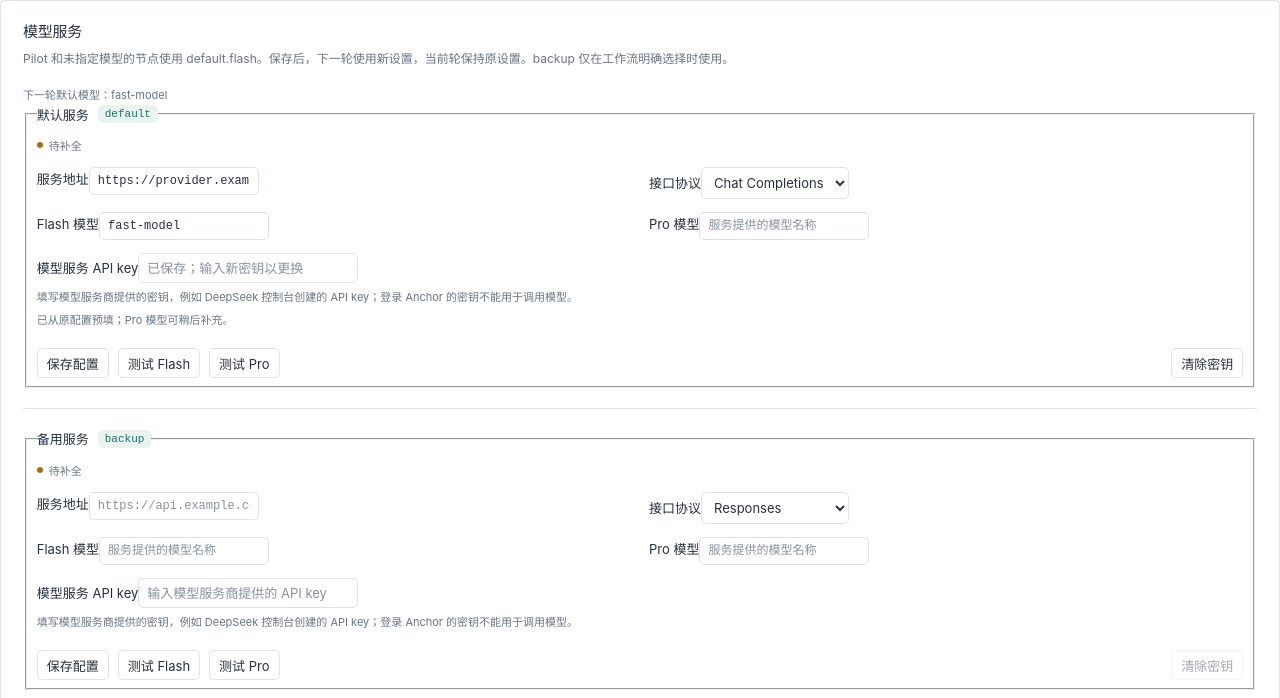
Test: Model provider settings › explains the known probe failure the selected provider has no API key configured without exposing raw errors
Click the button "测试 Flash" below "已从原配置预填；Pro 模型可稍后补充。".
click(159, 363)  # box [118,348,200,378]
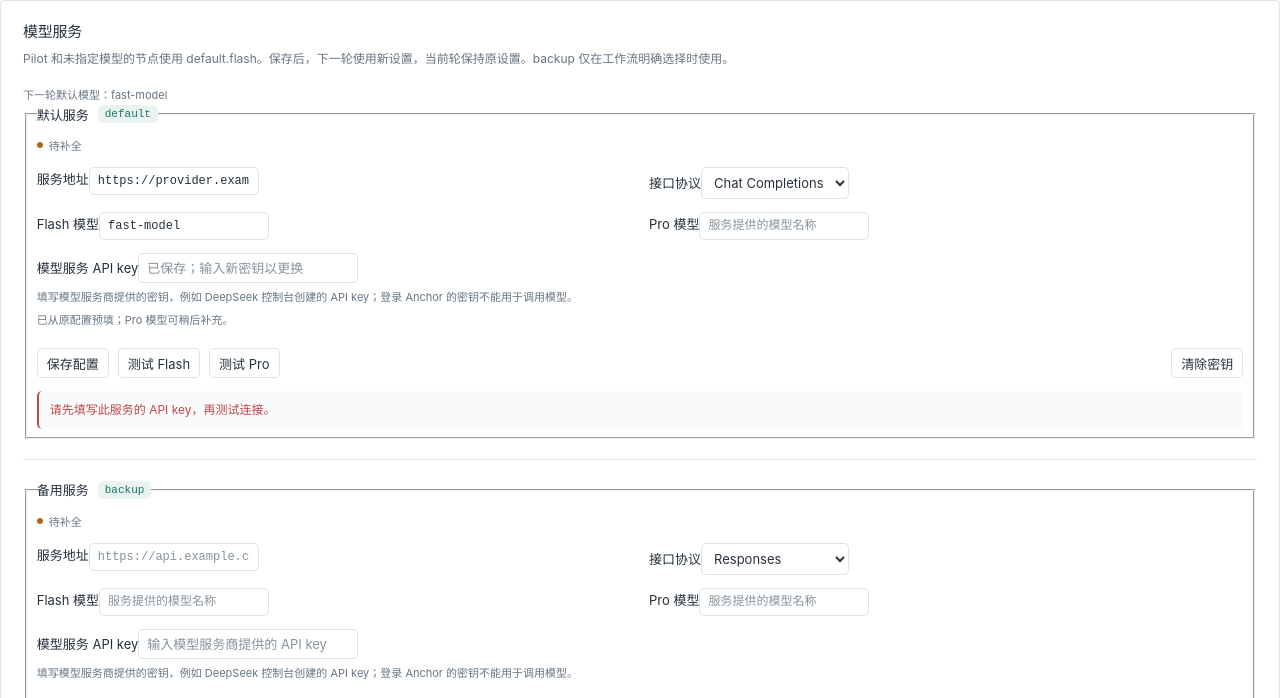
Expected: the message "请先填写此服务的 API key，再测试连接。" is shown, [37,391,1243,429]
